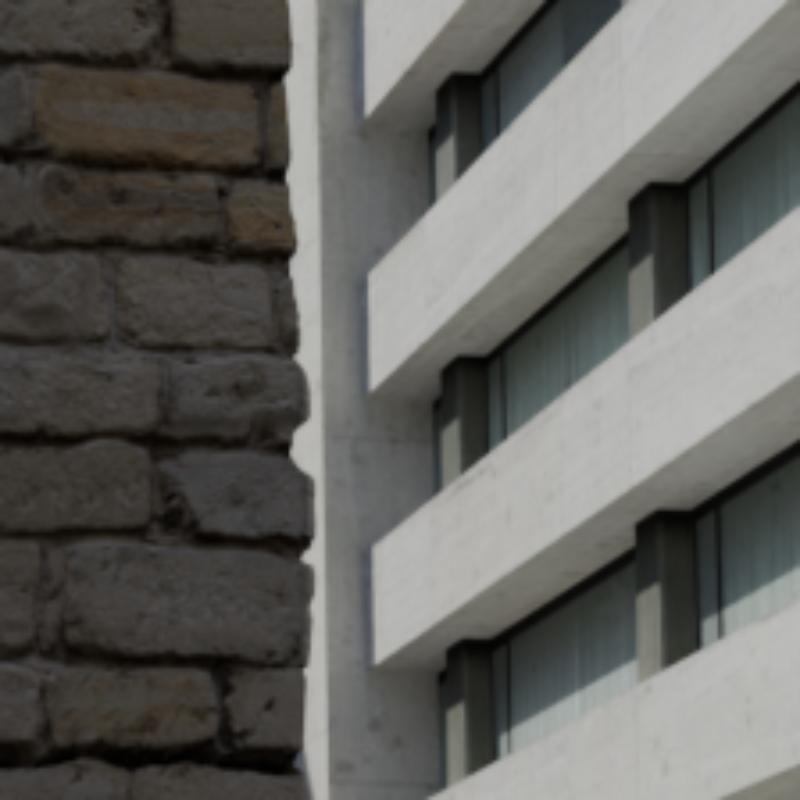pothole: (0, 736, 293, 771)
